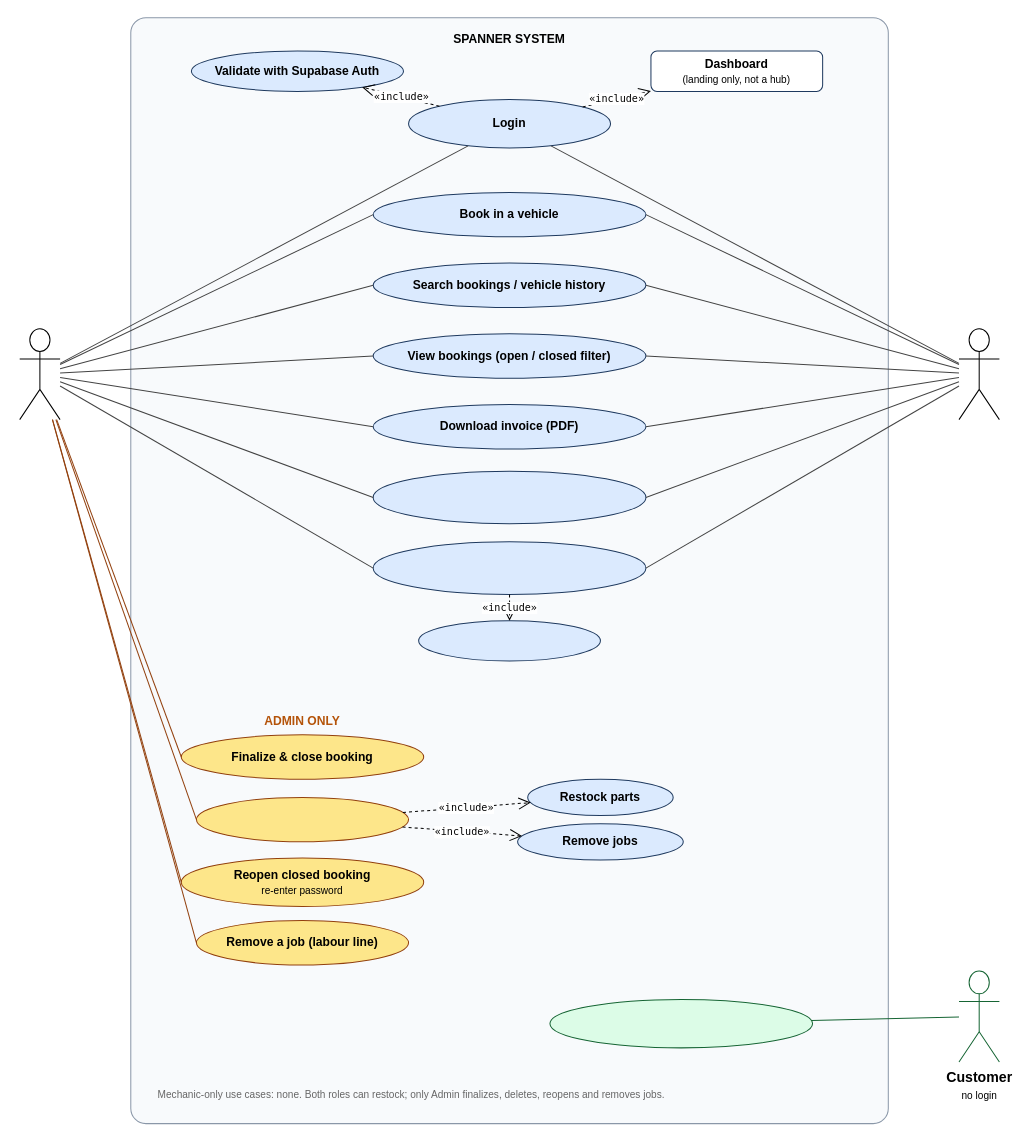
The diagram is 1029 pixels wide and 1141 high, and some of its shapes have lost their labels. Here are the shapes that lost their labels. From the top down, the centre of each, then its label:
At point 39,374: "Admin".
At point 978,374: "Mechanic".
At point 509,497: "Manage stock search, add / restock, categories".
At point 509,567: "Update booking add labour / add part".
At point 509,640: "Decrement stock".
At point 302,819: "Delete booking".
At point 681,1023: "Check repair status by reference code".
